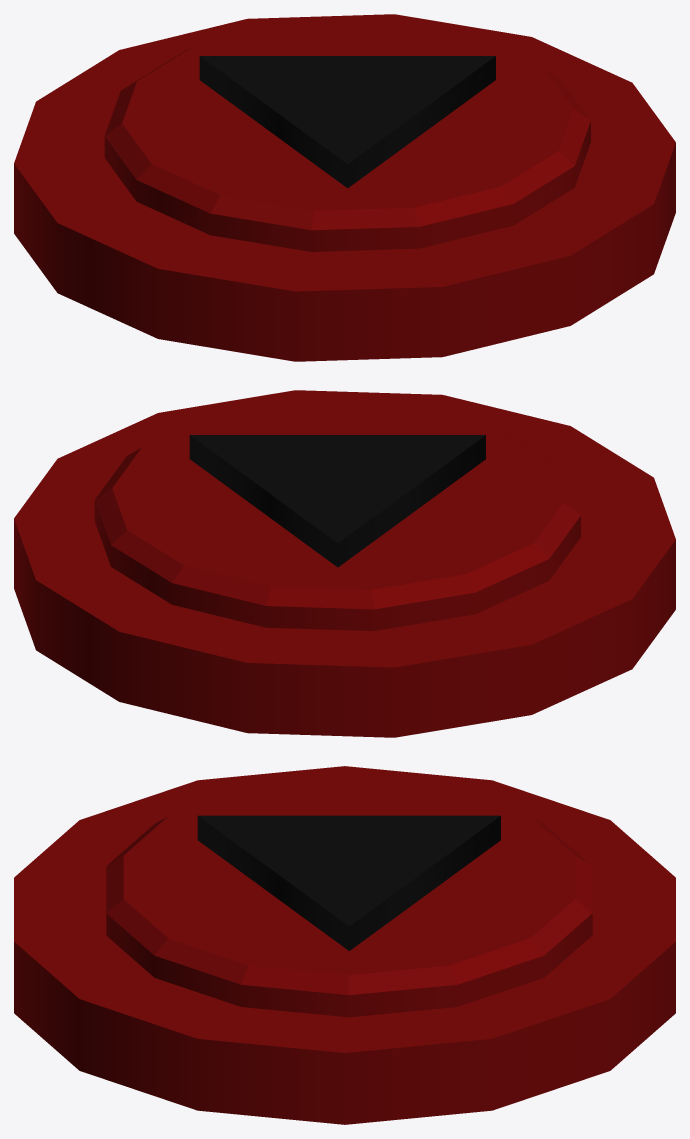
Rendered from ArcadeButton_Arrow.fbx.
The picture shows the model from 3 angles, top to bottom: view 1: azimuth 30°, elevation 25°; view 2: azimuth 150°, elevation 25°; view 3: azimuth 270°, elevation 25°; orthographic projection. The views are drawn at different scales.
Visible parts, largest first — view 1: Cylinder001, Cylinder002; view 2: Cylinder001, Cylinder002; view 3: Cylinder001, Cylinder002.
Part boxes in pixels (<box>): Cylinder001: <box>14,14,675,361</box>; Cylinder002: <box>104,21,590,251</box>; Cylinder001: <box>14,390,675,737</box>; Cylinder002: <box>94,400,580,630</box>; Cylinder001: <box>14,766,675,1124</box>; Cylinder002: <box>106,779,592,1017</box>.
Size of the model in its own units: 12.49 by 2.66 by 12.18.
